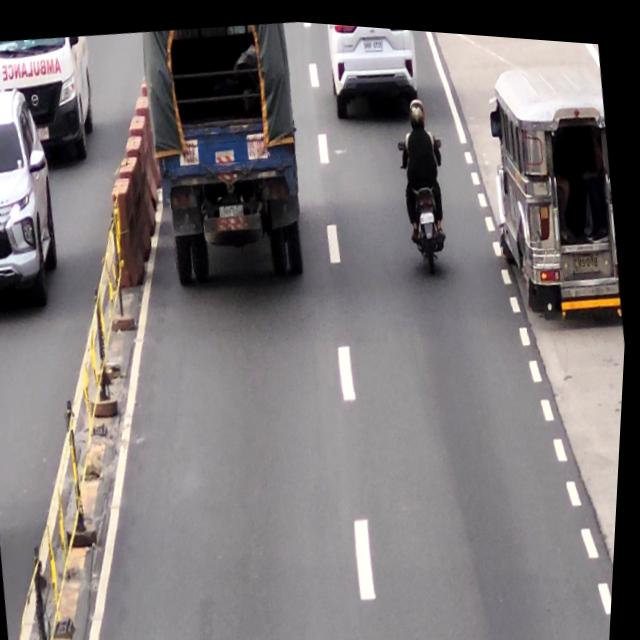Car: (325, 19, 425, 118)
Jeep: (487, 56, 634, 313)
Motorcycle: (394, 91, 462, 271)
Truck: (137, 11, 321, 294)
